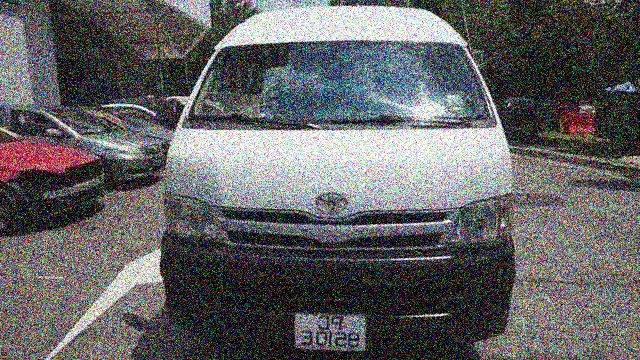van: (150, 2, 523, 351)
